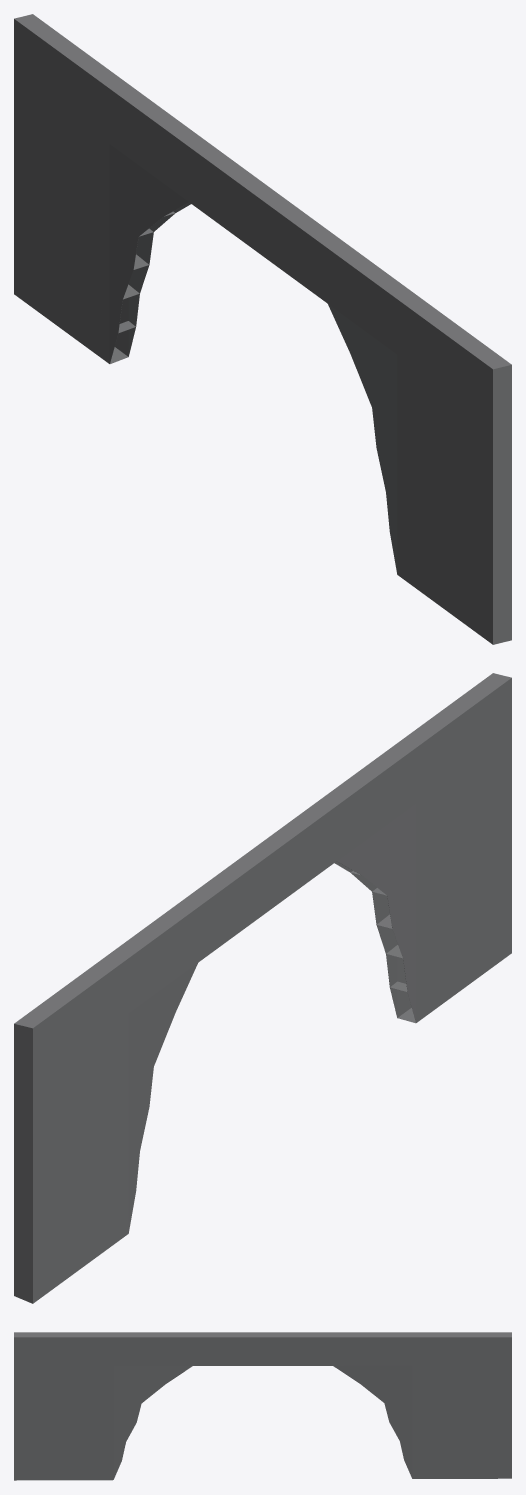
Rendered from pared puerta  blindada  1.fbx.
The picture shows the model from 3 angles, top to bottom: view 1: azimuth 30°, elevation 25°; view 2: azimuth 150°, elevation 25°; view 3: azimuth 270°, elevation 25°; orthographic projection. The views are drawn at different scales.
Visible parts, largest first — view 1: Cube; view 2: Cube; view 3: Cube.
Boxes of the visible parts, box(x1,y1,x2,y2) form: Cube: box(14, 14, 511, 644); Cube: box(14, 673, 511, 1303); Cube: box(14, 1332, 511, 1480).
Bounding box in the file's own units: 33.21 × 463 × 1457.
1 material, 1 textured.
